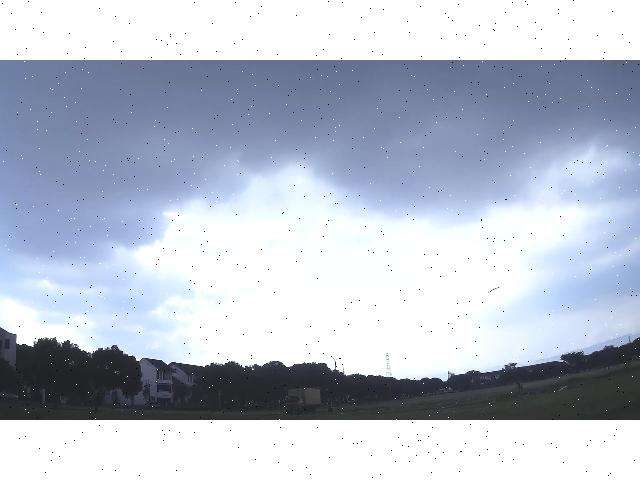Anti-Drone: (488, 286, 500, 293)
